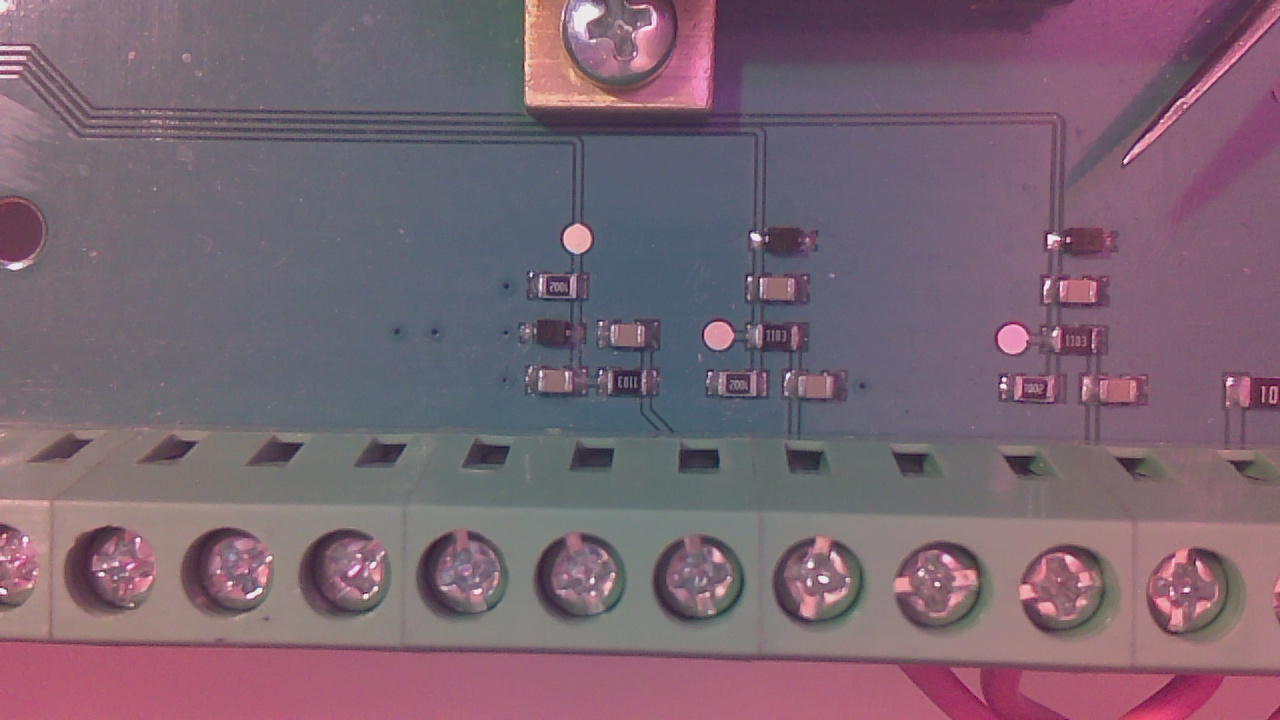Condensator: (801, 375, 843, 407), (761, 279, 805, 308), (1102, 382, 1145, 410), (614, 327, 653, 355), (540, 373, 579, 400), (1066, 283, 1108, 308)
Diode: (761, 227, 822, 262), (1064, 231, 1123, 263), (532, 322, 584, 351)
Resistor: (1058, 333, 1108, 360), (609, 371, 652, 402), (724, 373, 766, 402), (1020, 379, 1063, 407), (543, 276, 582, 306), (760, 330, 806, 355)
